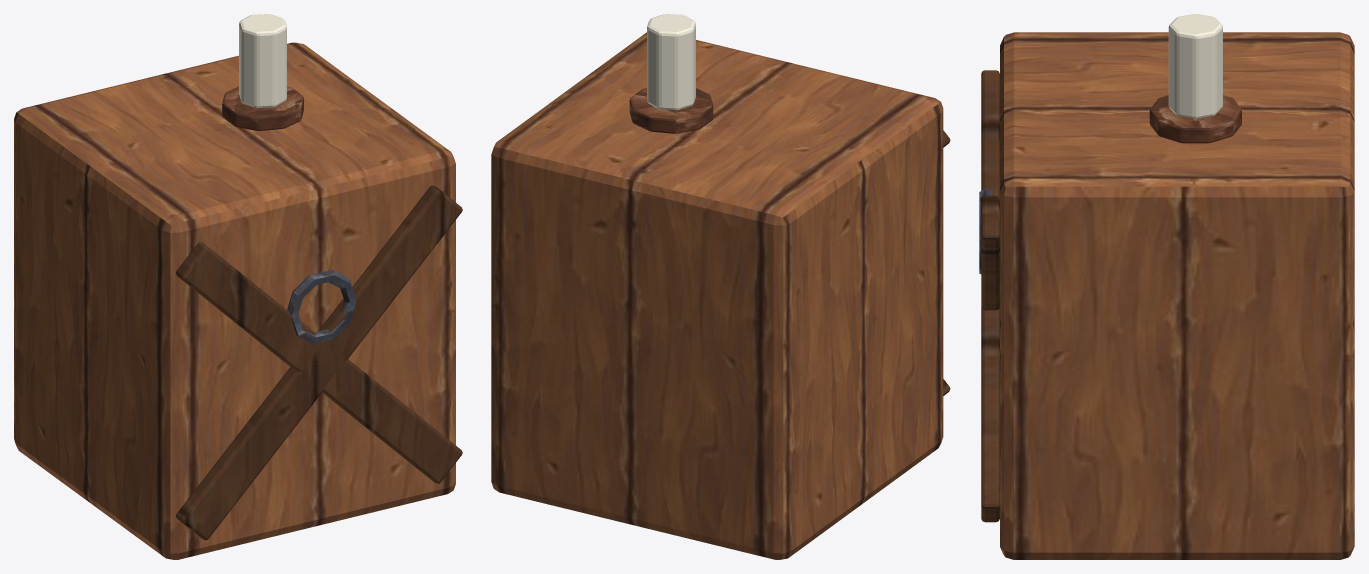
Rendered from shack_nightstand.glb.
The picture shows the model from 3 angles, left to right: view 1: azimuth 30°, elevation 25°; view 2: azimuth 150°, elevation 25°; view 3: azimuth 270°, elevation 25°; orthographic projection. The views are drawn at different scales.
Parts seen in each view (by area): view 1: model; view 2: model; view 3: model.
Part boxes in pixels (x1,y1,x2,y2): model: [14, 14, 462, 559]; model: [491, 14, 950, 559]; model: [979, 14, 1354, 559].
Size of the model in its own units: 0.4 by 0.57 by 0.4019.
Materials: 5 (4 with a texture image).
